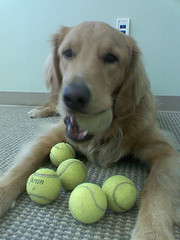tennis ball: (70, 181, 111, 225), (25, 167, 66, 207), (101, 174, 140, 215), (57, 157, 90, 190), (49, 140, 78, 168)
